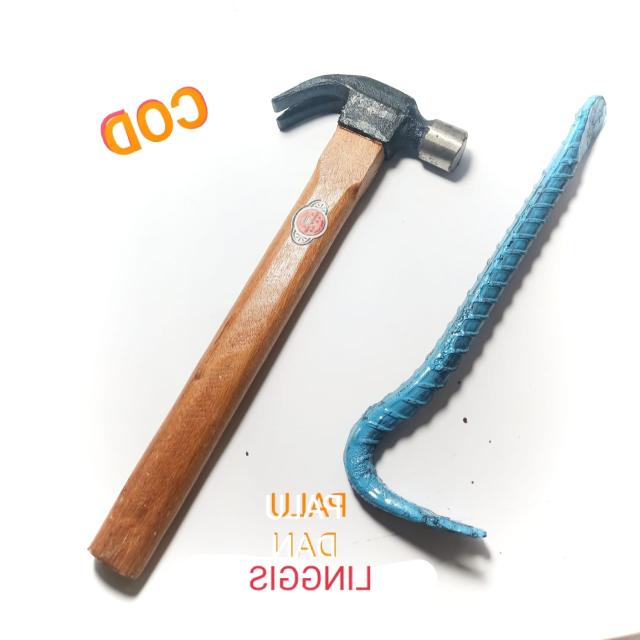Linggis: (343, 94, 609, 547)
